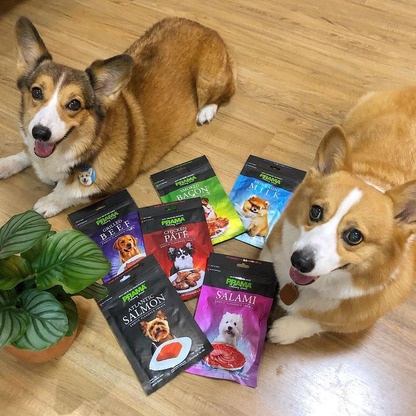Corgi: (11, 12, 249, 215), (281, 51, 409, 360)
